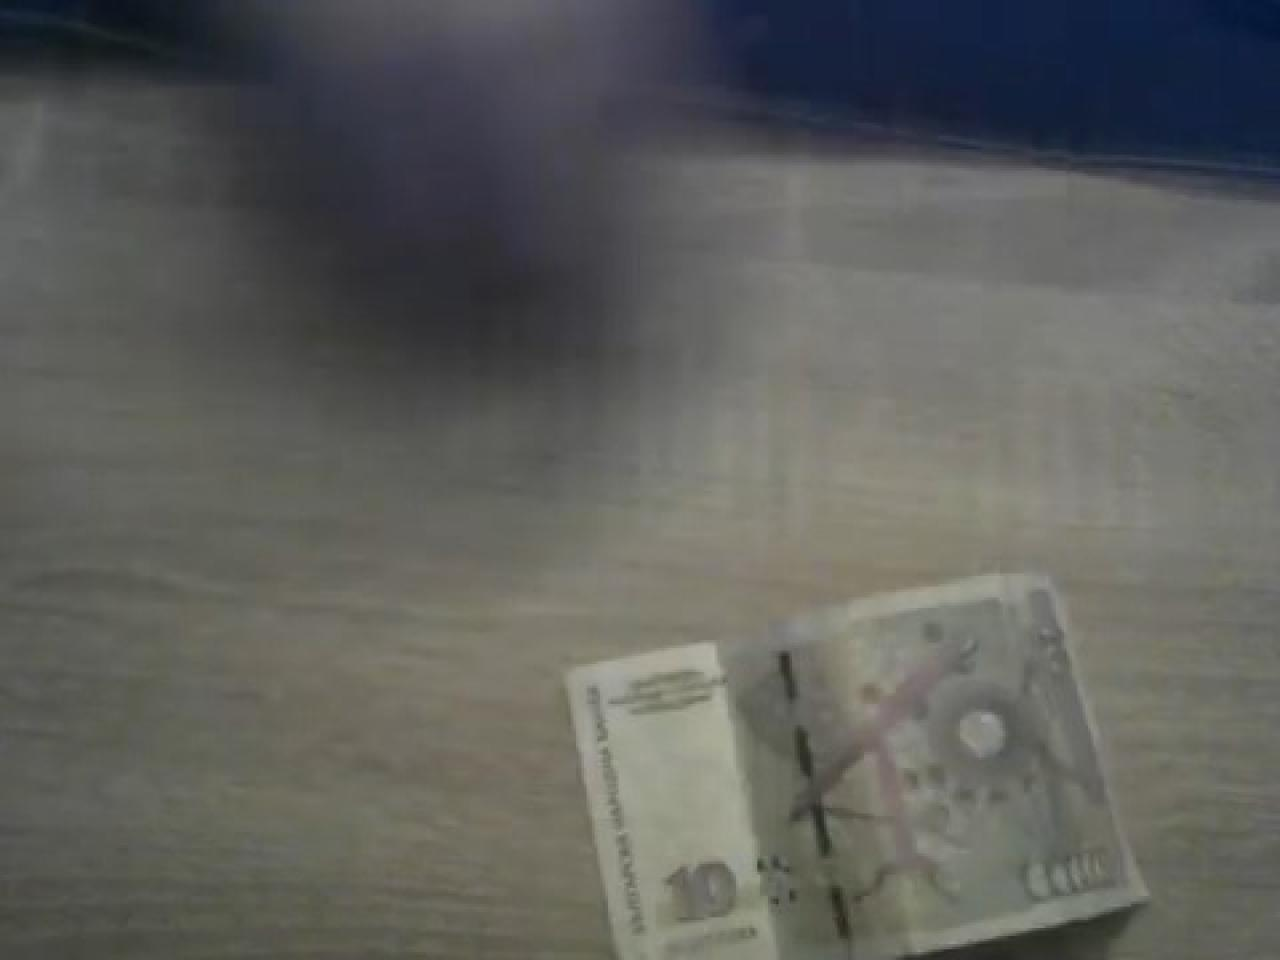10leva: (560, 576, 1149, 960)
